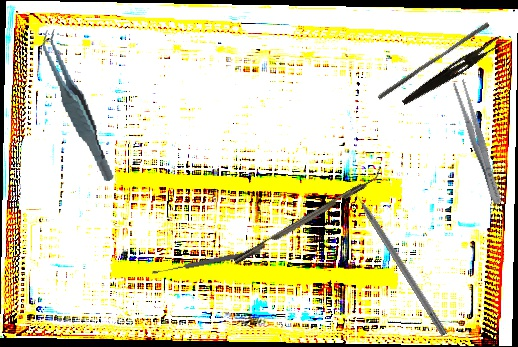Chopper: (228, 164, 387, 265)
Dressing Forceps: (400, 31, 506, 111), (450, 78, 506, 207)
Hook Surgical: (348, 182, 450, 337)
Pusher: (376, 17, 491, 105)
Surgical Spoon: (151, 248, 262, 276)
Tissue Forceps: (38, 22, 116, 189)
